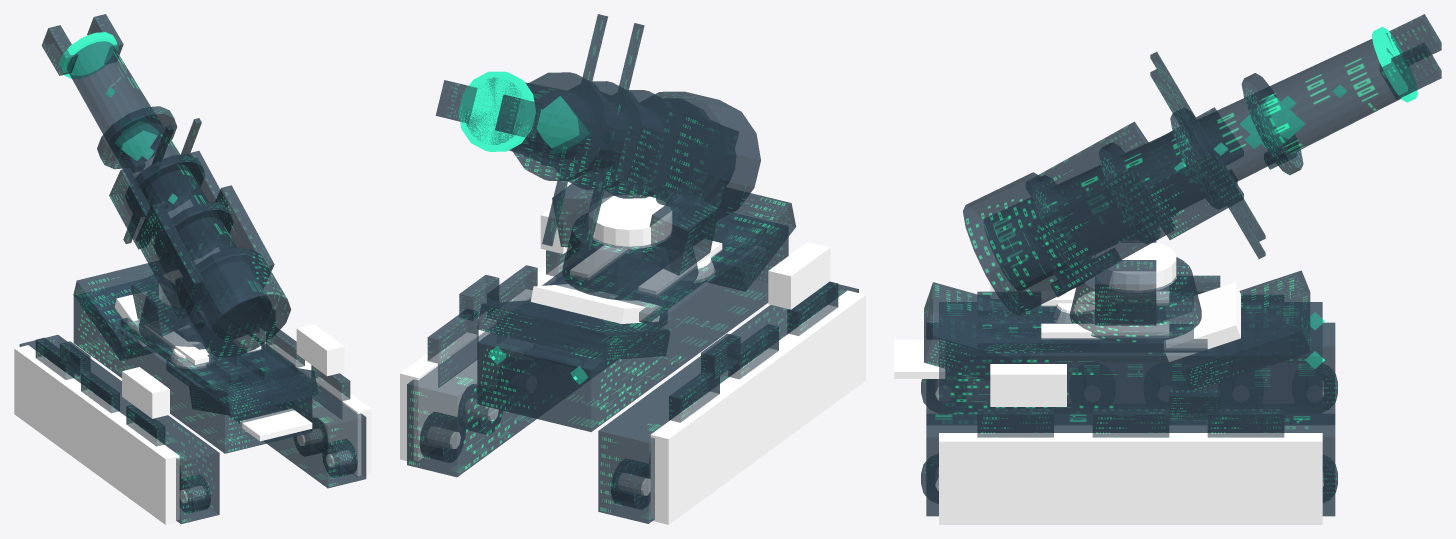
File: catapulte.glb
3 renders of one model, left to right at view 1: azimuth 30°, elevation 25°; view 2: azimuth 150°, elevation 25°; view 3: azimuth 270°, elevation 25°, orthographic. The views are drawn at different scales.
Parts seen in each view (by area): view 1: guerrier; view 2: guerrier; view 3: guerrier.
Boxes of the visible parts, <box> form: guerrier: <box>14,14,371,524</box>; guerrier: <box>400,14,865,524</box>; guerrier: <box>894,14,1441,524</box>.
Size of the model in its own units: 1.18 by 1.86 by 2.14.
